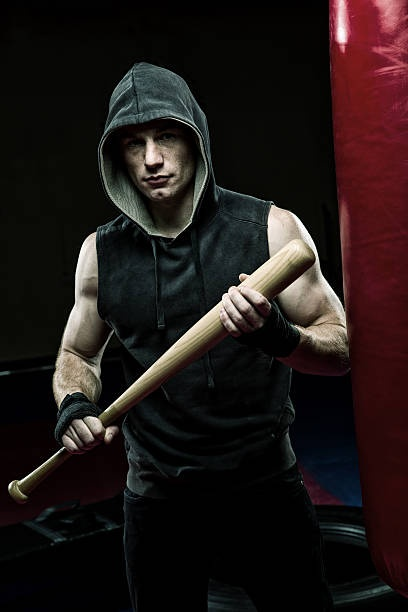bita: (3, 245, 316, 501)
